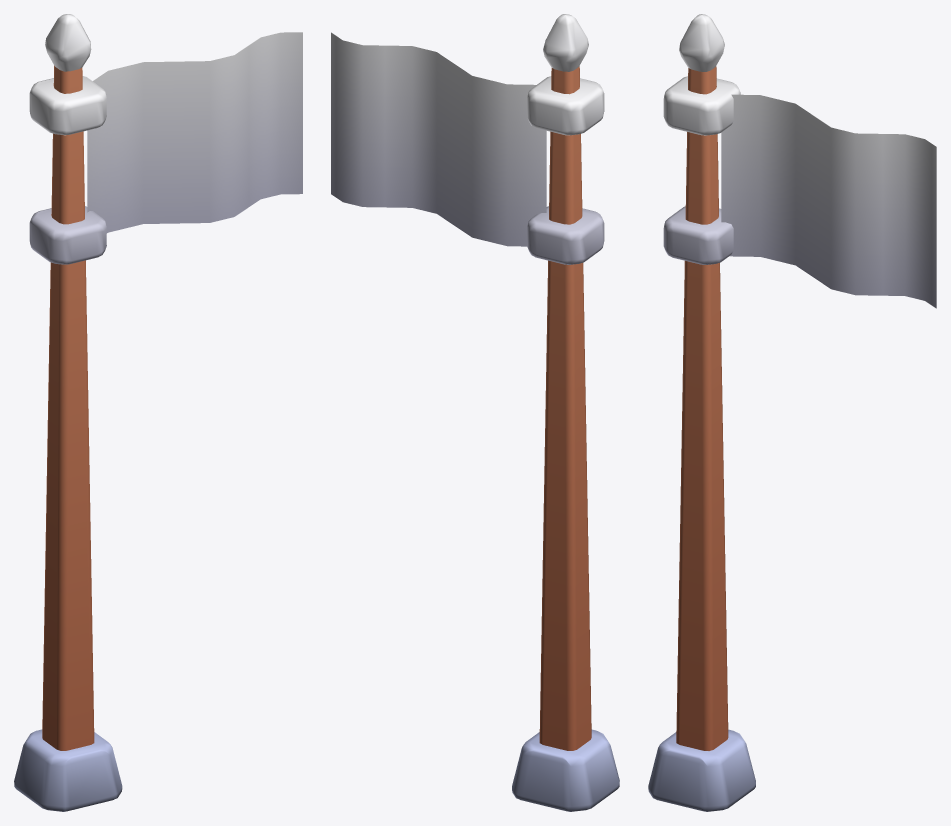
File: flag-high.glb
The picture shows the model from 3 angles, left to right: view 1: azimuth 30°, elevation 25°; view 2: azimuth 150°, elevation 25°; view 3: azimuth 330°, elevation 25°; orthographic projection.
Visible parts, largest first — view 1: flag-high; view 2: flag-high; view 3: flag-high.
Part boxes in pixels (x1,y1,x2,y2): flag-high: [14, 14, 302, 811]; flag-high: [331, 14, 619, 811]; flag-high: [648, 14, 936, 811].
Size of the model in its own units: 1.33 by 3.6 by 0.3867.
1 material, 1 textured.
